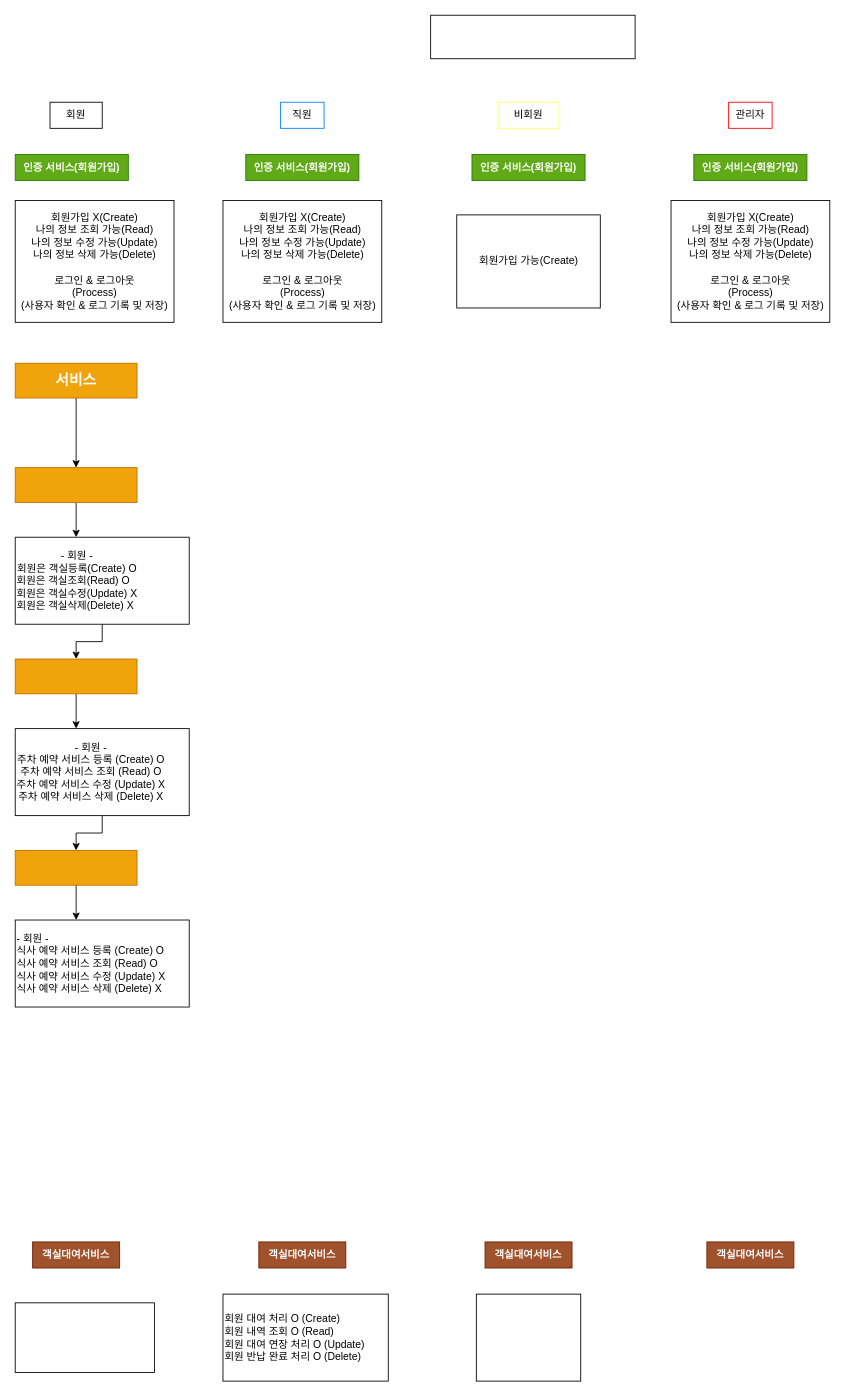
The diagram is 846 pixels wide and 1396 high, and some of its shapes have lost their labels. The shapes that lost their labels are listed below. From the top down, each one's centre as x and y in pixels, then its label:
At (x=532, y=36): "호텔 서비스 프로그램".
At (x=75, y=484): "객실 예약 서비스".
At (x=75, y=676): "주차 예약 서비스".
At (x=75, y=867): "식사 예약 서비스".
At (x=84, y=1337): "나의 내역 조회 O (Read) 나의 대여 기간 내역 수정 O (Update) - 대여 연장 처리".
At (x=528, y=1337): "- 비회원 - 객실등록 X (Create) 객실조회 O (Read) 객실수정 X (Update) 객실삭제 X (Delete)".
